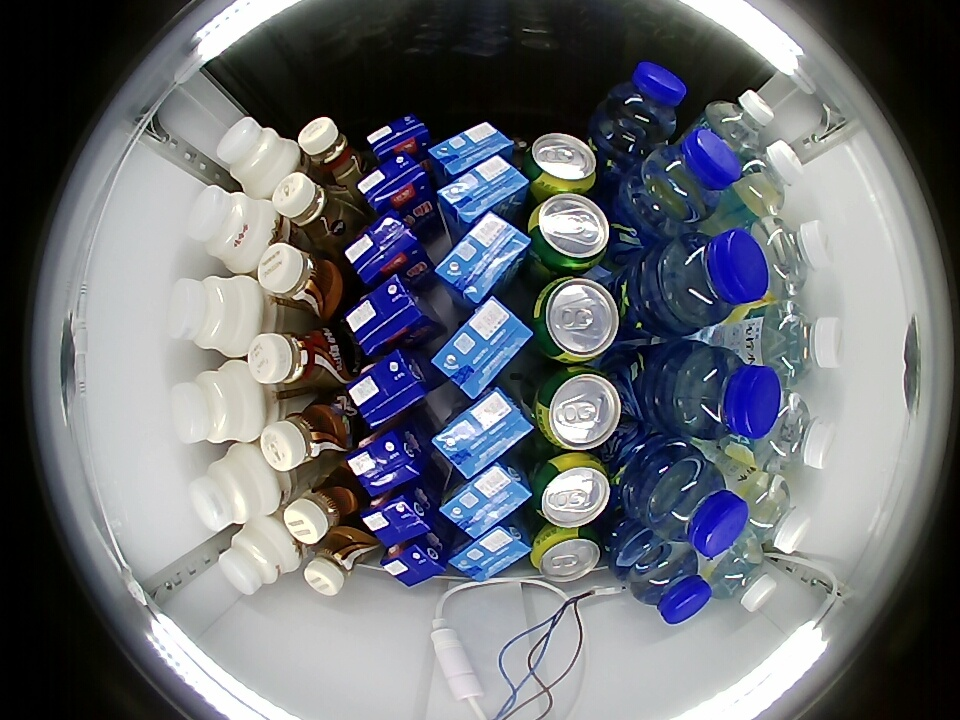bingqilinniunai: (343, 274, 430, 357), (345, 348, 430, 428), (343, 210, 426, 287), (346, 426, 426, 497), (361, 485, 435, 549), (357, 151, 429, 215), (380, 535, 445, 588), (367, 113, 430, 163)
kafei: (247, 323, 355, 391), (261, 392, 355, 470), (258, 243, 349, 322), (284, 462, 367, 543), (273, 173, 355, 251), (298, 117, 371, 192), (304, 525, 376, 595)
maidong: (659, 229, 769, 328), (669, 346, 782, 441), (646, 457, 749, 559), (636, 127, 743, 224), (596, 61, 688, 153), (623, 541, 713, 625)
qinningshui: (746, 216, 833, 300), (748, 391, 837, 470), (758, 302, 845, 381), (730, 474, 812, 553), (729, 139, 804, 217), (704, 537, 778, 611), (702, 89, 775, 160)
weitanai: (433, 295, 534, 398), (430, 387, 535, 479), (434, 211, 532, 306), (438, 460, 532, 539), (435, 154, 529, 228), (447, 522, 532, 583), (429, 121, 514, 177)
xuebi2: (533, 366, 626, 451), (530, 277, 620, 364), (527, 194, 612, 274), (532, 452, 613, 527), (526, 133, 598, 194), (531, 526, 603, 581)
yingyangkuaixian: (186, 185, 278, 273), (170, 360, 265, 444), (189, 444, 279, 531), (168, 275, 262, 357), (216, 117, 302, 198), (218, 517, 300, 594)
